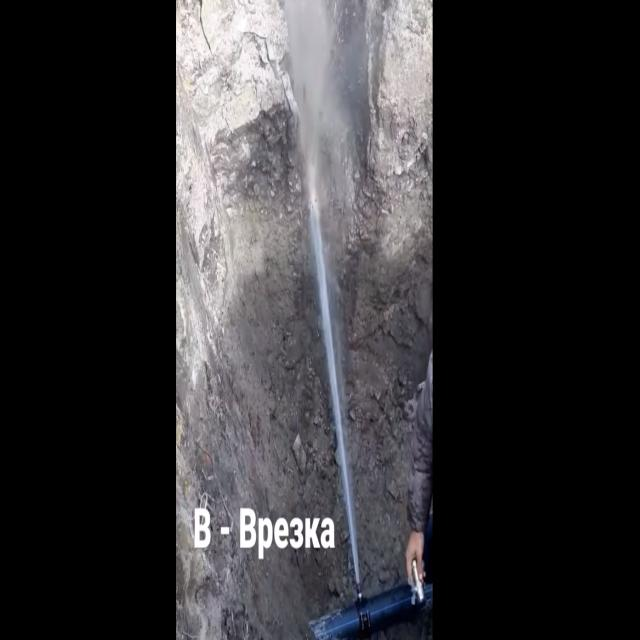leak: (308, 163, 361, 600)
